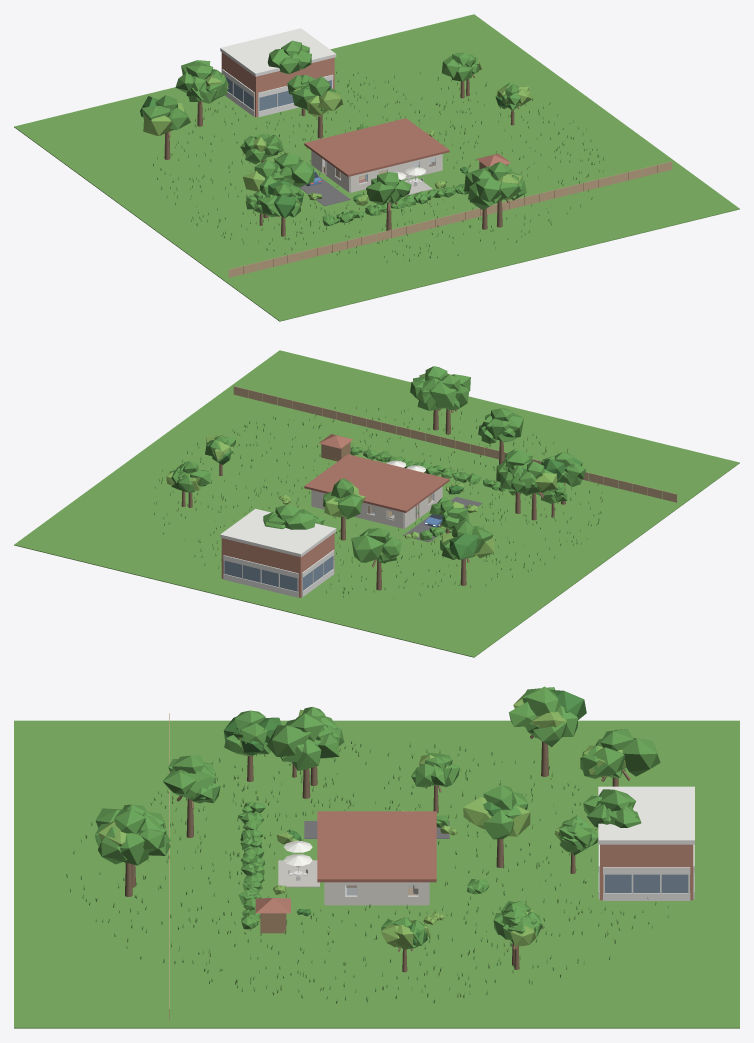
File: house.glb
3 renders of one model, top to bottom at view 1: azimuth 30°, elevation 25°; view 2: azimuth 150°, elevation 25°; view 3: azimuth 270°, elevation 25°, orthographic. The views are drawn at different scales.
Parts seen in each view (by area): view 1: map; view 2: map; view 3: map.
Part boxes in pixels (<box>): map: <box>14,14,739,321</box>; map: <box>14,350,739,657</box>; map: <box>14,686,739,1028</box>.
Bounding box in the file's own units: 70 × 9.75 × 70.
